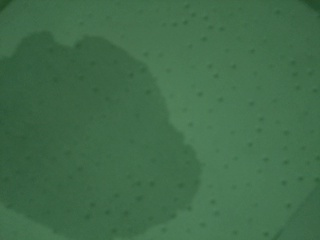Water_detected: (0, 62, 170, 218)
